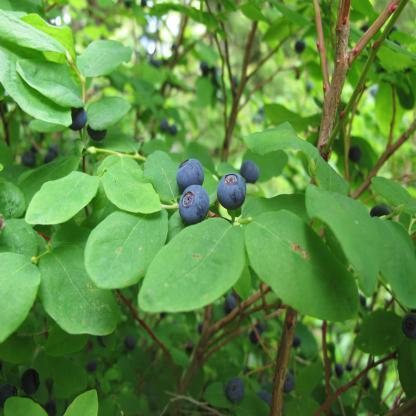Blueberry leaf: (243, 209, 367, 334), (140, 219, 248, 324), (310, 173, 382, 296), (38, 240, 119, 348), (82, 203, 170, 295), (20, 171, 104, 230), (1, 250, 43, 346), (17, 54, 84, 112), (100, 158, 166, 216), (74, 37, 143, 80), (86, 94, 137, 136)
